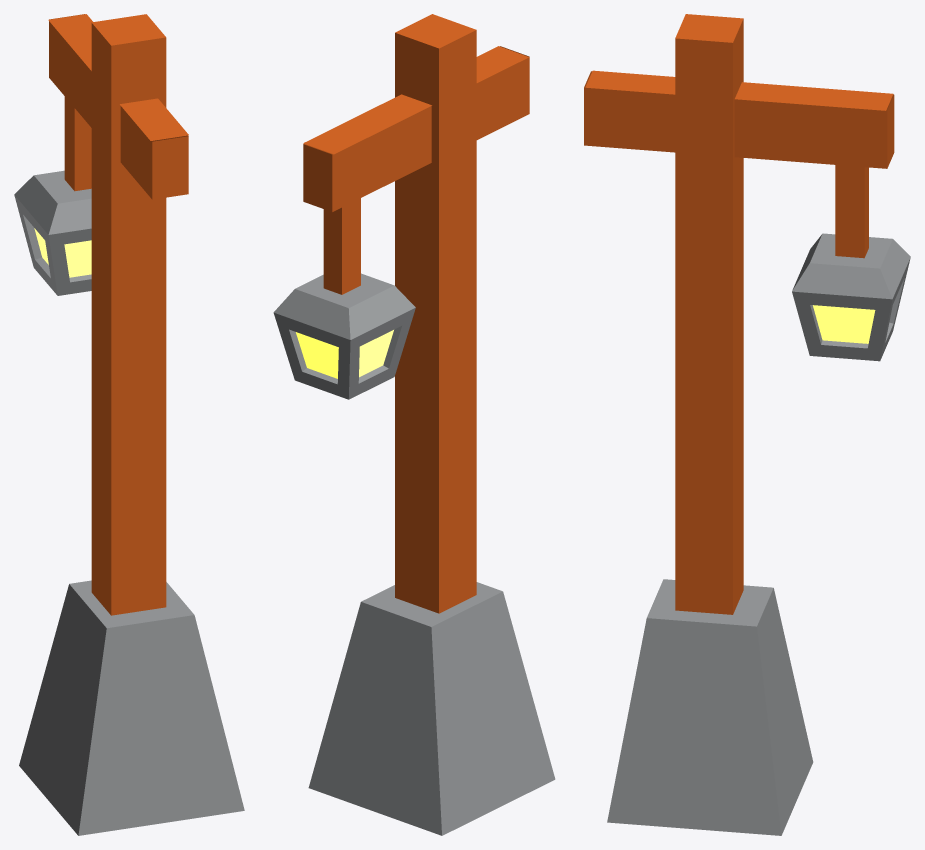
The model's file is polelight.glb.
3 renders of one model, left to right at view 1: azimuth 30°, elevation 25°; view 2: azimuth 150°, elevation 25°; view 3: azimuth 270°, elevation 25°, orthographic.
Parts seen in each view (by area): view 1: Cube.174, Cube.196, Cube.175, Cube.176; view 2: Cube.174, Cube.196, Cube.175, Cube.176; view 3: Cube.174, Cube.196, Cube.175, Cube.176.
Boxes of the visible parts, <box> form: Cube.174: <box>48,14,188,615</box>; Cube.196: <box>19,580,244,835</box>; Cube.175: <box>14,170,91,295</box>; Cube.176: <box>34,228,91,277</box>; Cube.174: <box>303,14,529,613</box>; Cube.196: <box>308,582,555,835</box>; Cube.175: <box>273,273,415,399</box>; Cube.176: <box>296,330,393,378</box>; Cube.174: <box>584,14,894,614</box>; Cube.196: <box>607,579,813,835</box>; Cube.175: <box>792,233,910,361</box>; Cube.176: <box>813,305,875,343</box>.
Size of the model in its own units: 0.2679 by 1.09 by 0.4244.
